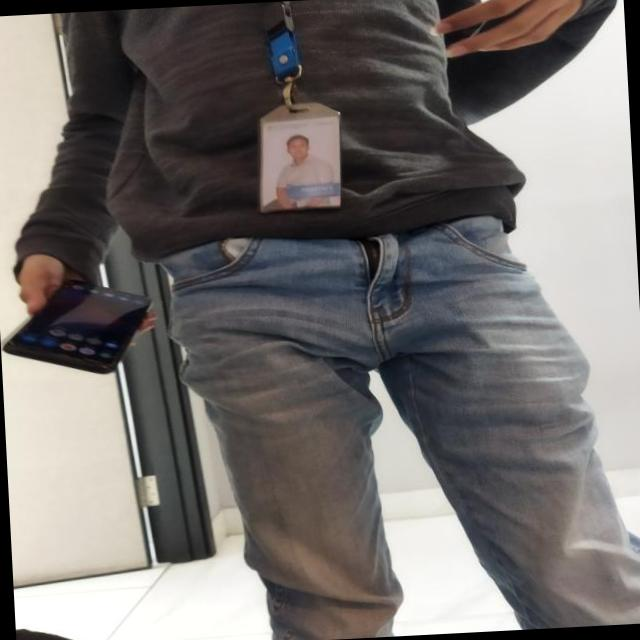id_card: (232, 5, 342, 216)
